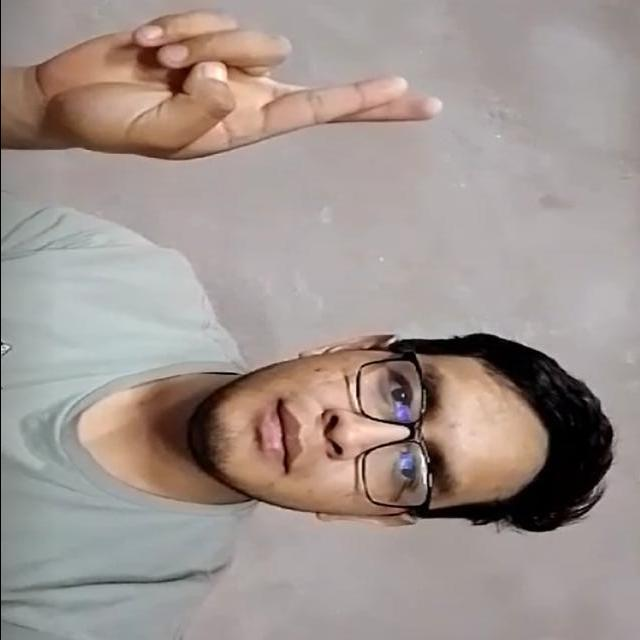R: (33, 3, 456, 168)
